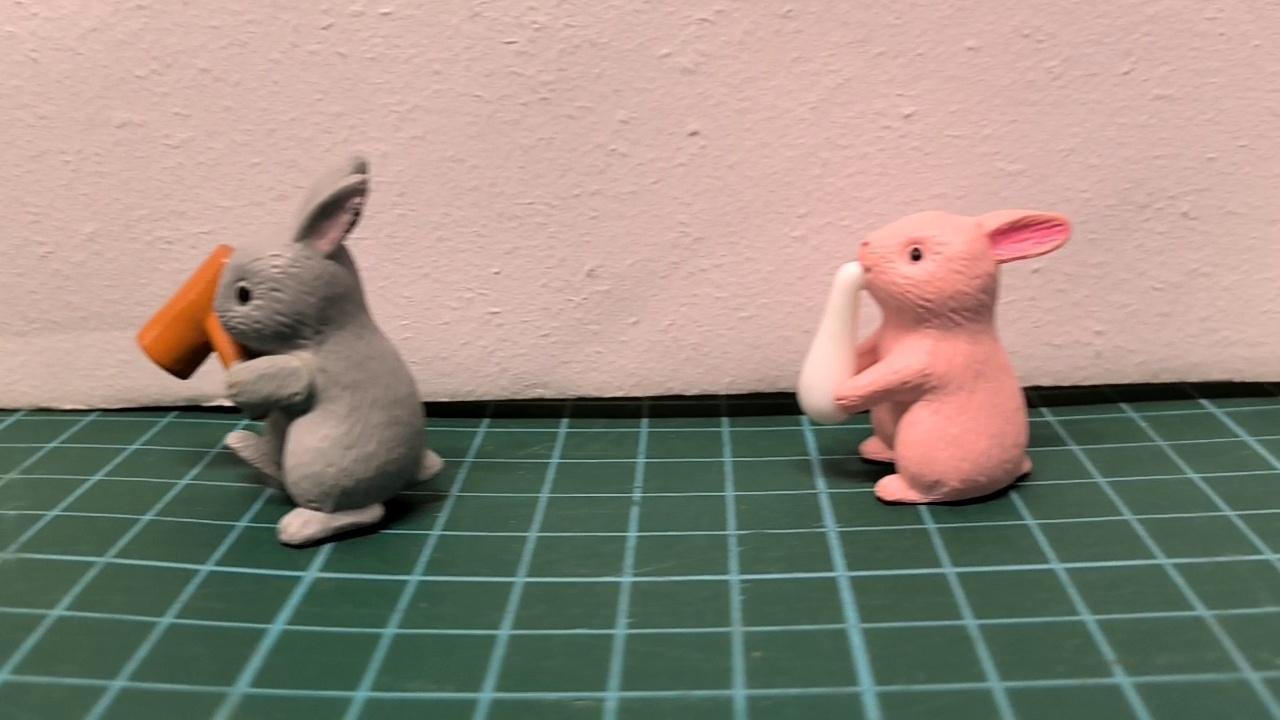pet: (214, 154, 443, 545), (835, 207, 1070, 505)
